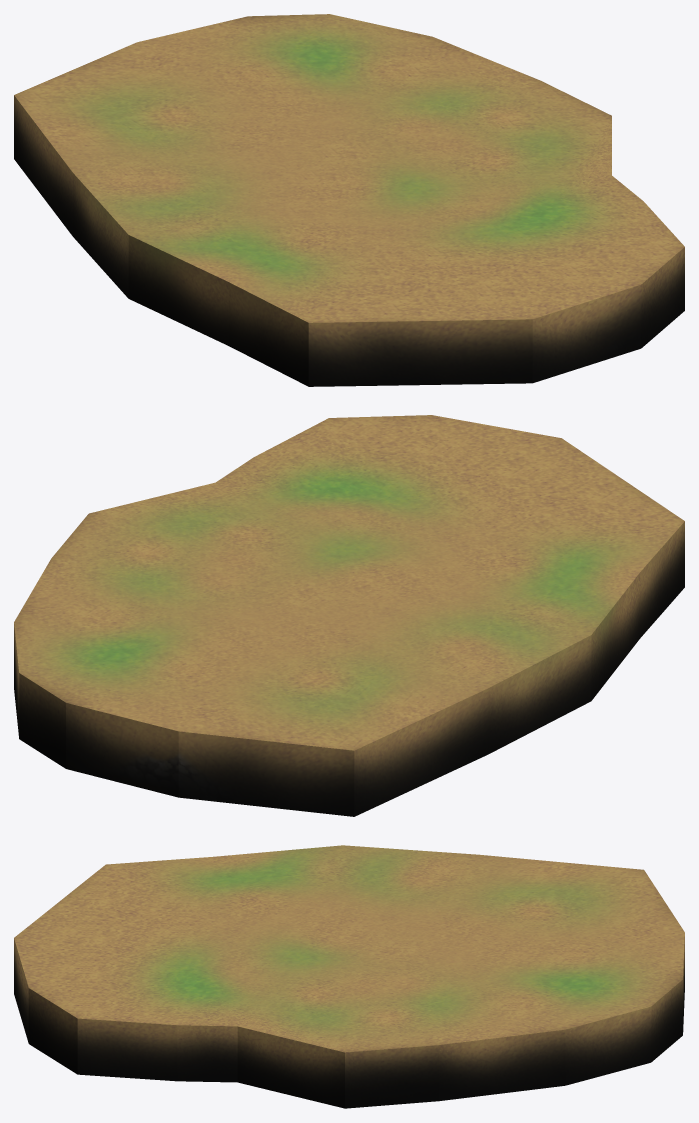
The model's file is floor_1.glb.
3 renders of one model, top to bottom at view 1: azimuth 30°, elevation 25°; view 2: azimuth 150°, elevation 25°; view 3: azimuth 270°, elevation 25°, orthographic. The views are drawn at different scales.
Parts seen in each view (by area): view 1: Floor_1-col; view 2: Floor_1-col; view 3: Floor_1-col.
Boxes of the visible parts, x1,y1,x2,y2 form: Floor_1-col: (14, 14, 684, 386); Floor_1-col: (14, 415, 684, 816); Floor_1-col: (14, 845, 684, 1108).
Bounding box in the file's own units: 15.85 × 2 × 21.68.
1 material, 1 textured.
